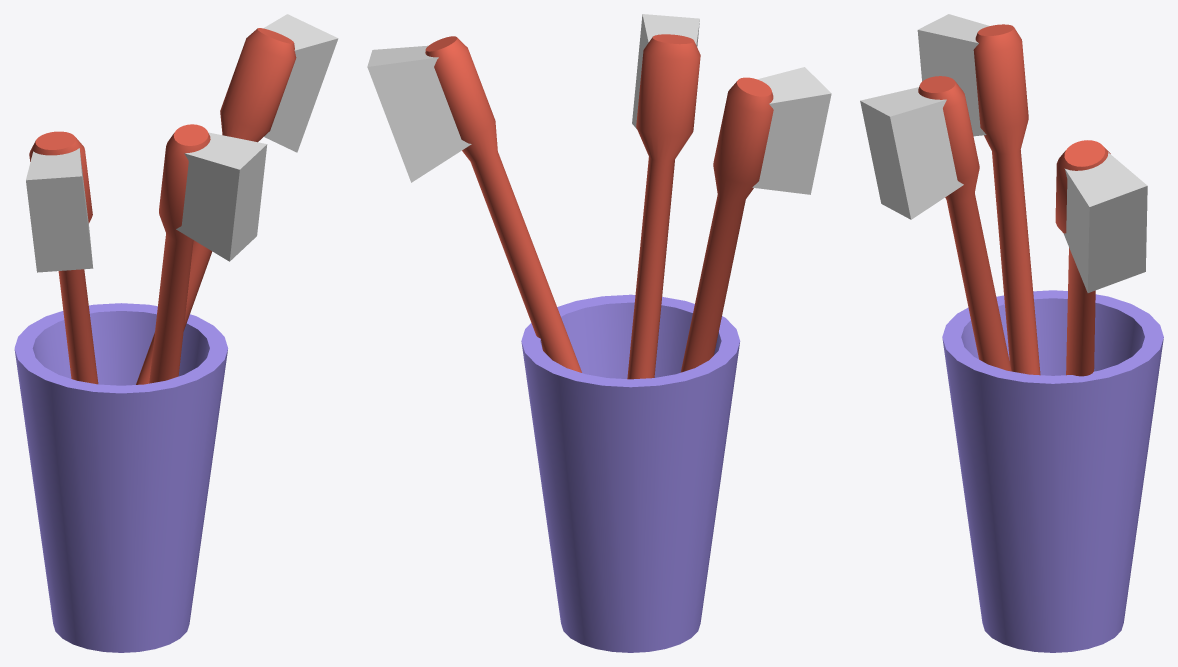
Rendered from 2 Toothbrush.fbx.
3 renders of one model, left to right at view 1: azimuth 30°, elevation 25°; view 2: azimuth 150°, elevation 25°; view 3: azimuth 270°, elevation 25°, orthographic. The views are drawn at different scales.
Visible parts, largest first — view 1: 2 Toothbrush; view 2: 2 Toothbrush; view 3: 2 Toothbrush.
Boxes of the visible parts, x1=… form: 2 Toothbrush: x1=14, y1=14, x2=338, y2=652; 2 Toothbrush: x1=367, y1=14, x2=831, y2=652; 2 Toothbrush: x1=860, y1=14, x2=1163, y2=652.
Size of the model in its own units: 15.04 by 20.45 by 10.03.
